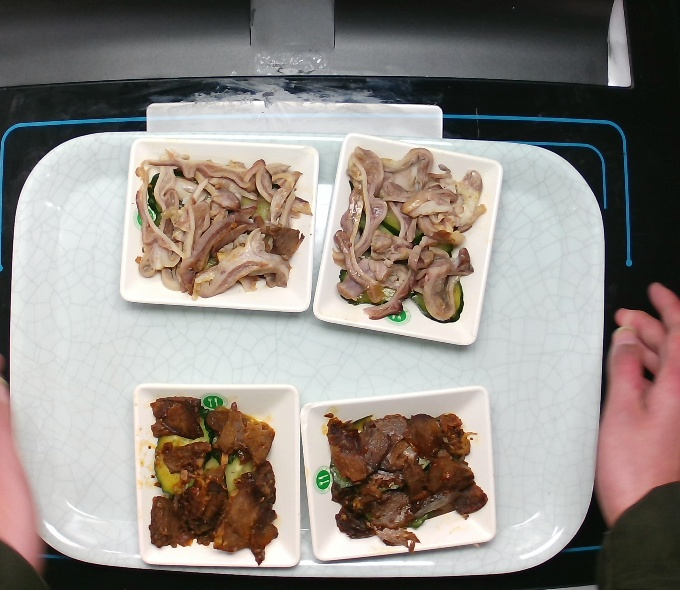wcq-JiangNiuRou: (314, 404, 494, 562), (139, 389, 285, 579)
wcq-ZhuDu: (125, 143, 318, 306), (326, 139, 490, 329)
